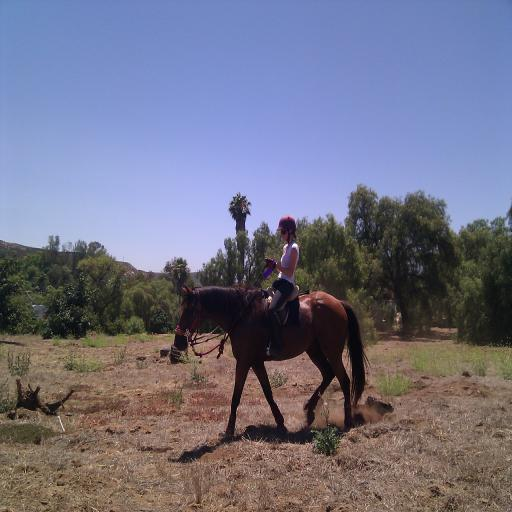horse: (168, 266, 368, 446)
